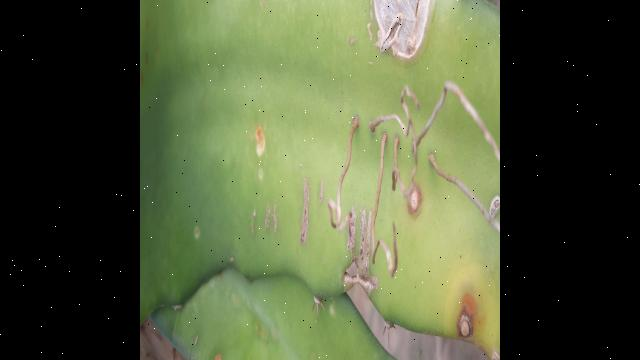stemcanker: (449, 291, 483, 346), (250, 116, 273, 159), (402, 181, 428, 216)
